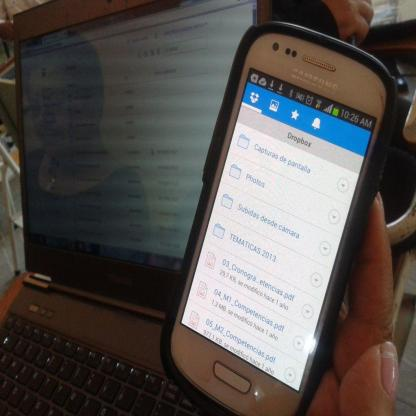board: (0, 0, 259, 415)
